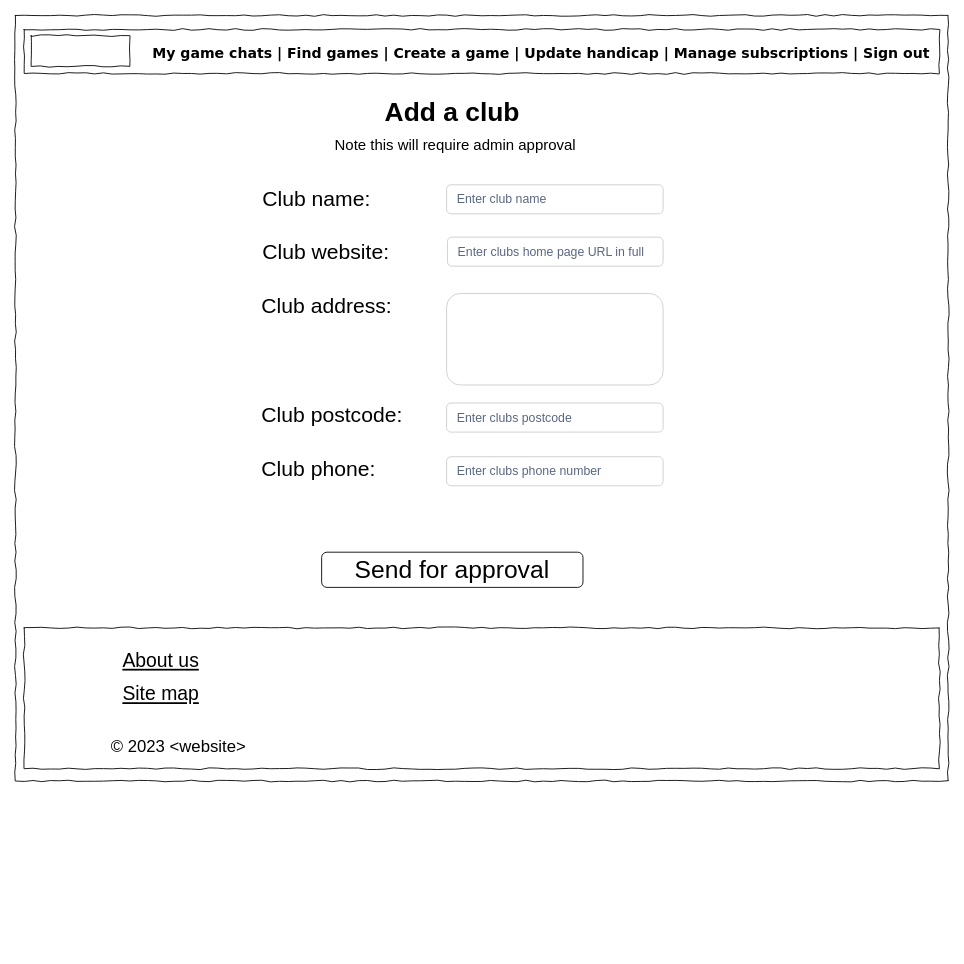
Some shapes in this 964 by 964 pixel diagram are drawn without their labels. The shapes that lost their labels are listed below. From the top down, each one's centre as x and y in pixels, then its label:
[80,50]: LOGO
[554,339]: Enter clubs address
